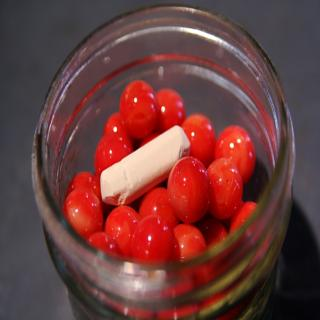tomato: (165, 153, 208, 221)
